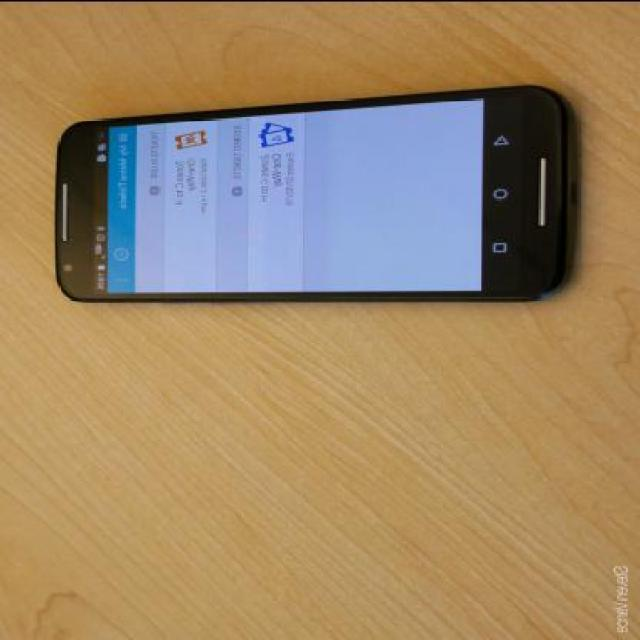phone: (55, 82, 579, 305)
